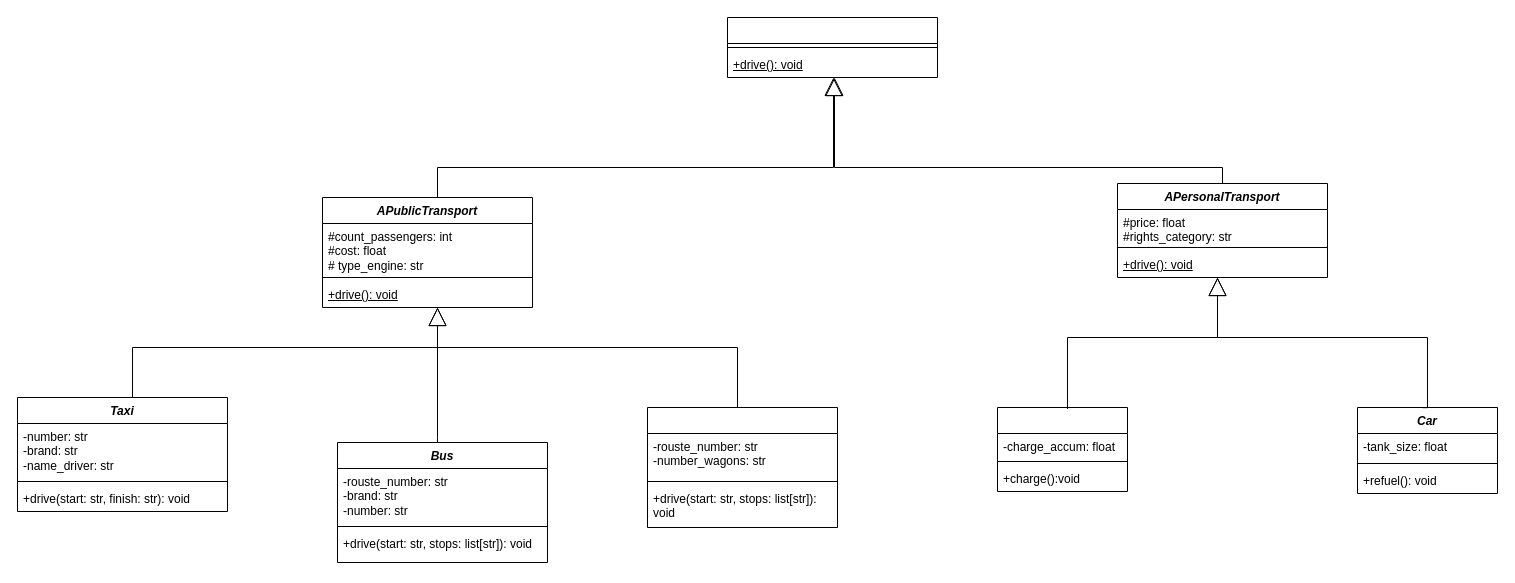
Image size: 1515x583. Some labels were removed from this diagram. The box of each missing label's shape, as (x1, y1, x2, y2) in pixels:
AVehicle: (726, 16, 938, 78)
Scooter: (996, 406, 1128, 492)
Tram: (646, 406, 838, 528)
